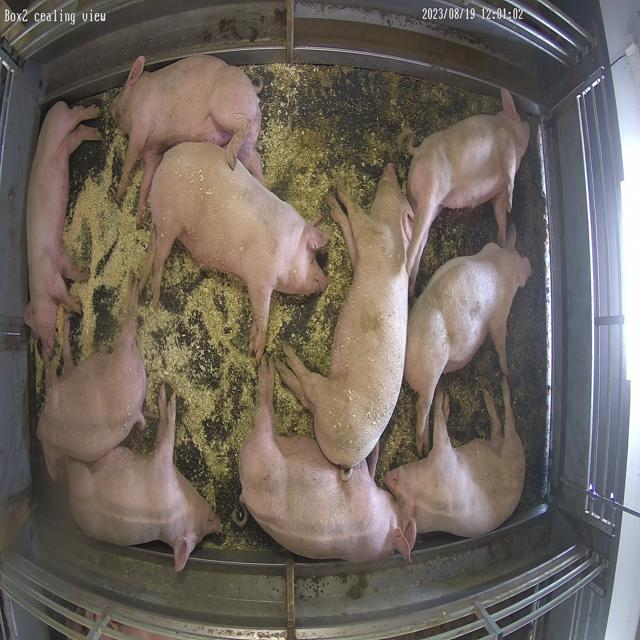Dirt: (297, 65, 500, 180), (509, 153, 552, 508), (416, 203, 499, 296), (441, 348, 504, 446)
Pig: (278, 164, 413, 468), (141, 143, 328, 360), (240, 360, 411, 562), (65, 386, 220, 572), (405, 243, 533, 452), (110, 55, 264, 226), (408, 88, 531, 292), (385, 378, 526, 538), (37, 279, 146, 478), (24, 101, 101, 356)
